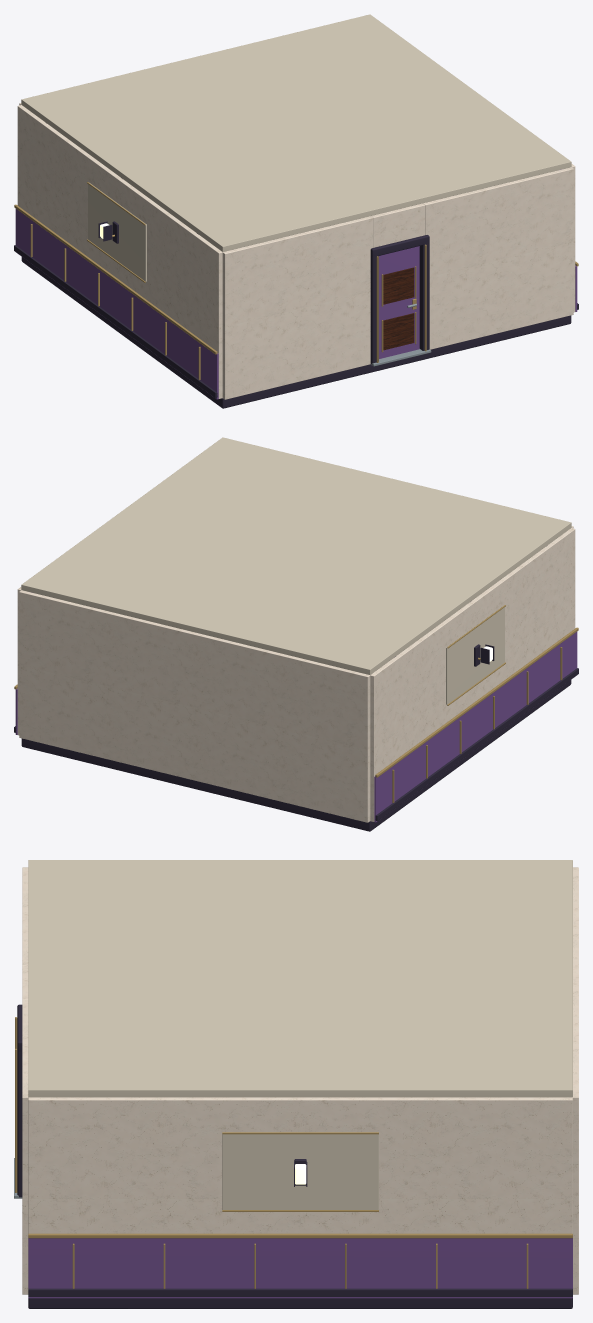
The model's file is laundry_room.glb.
The picture shows the model from 3 angles, top to bottom: view 1: azimuth 30°, elevation 25°; view 2: azimuth 150°, elevation 25°; view 3: azimuth 270°, elevation 25°; orthographic projection. The views are drawn at different scales.
Visible parts, largest first — view 1: ceiling_surface.011, front_wall.035, front_wall.033, left_wall.027, left_wainscot.019, floor.012, left_upper_inset.019, laundry_room_leaf, front_wall.034, left_skirt.019, laundry_room_jamb.001, left_rail.019 (+4 smaller); view 2: ceiling_surface.011, back_wall.021, left_wall.027, left_wainscot.019, floor.012, left_upper_inset.019, left_skirt.019, left_rail.019; view 3: ceiling_surface.011, right_wall.027, right_wainscot.019, right_upper_inset.019, floor.012, right_skirt.019, right_rail.019, back_wall.021, front_wall.033, laundry_room_jamb.001, front_wall.035.
Boxes of the visible parts, box(x1,y1,x2,y2) form: ceiling_surface.011: box(21, 14, 571, 251); front_wall.035: box(222, 216, 373, 399); front_wall.033: box(423, 167, 573, 349); left_wall.027: box(17, 105, 222, 398); left_wainscot.019: box(15, 208, 218, 399); floor.012: box(21, 257, 571, 408); left_upper_inset.019: box(88, 183, 146, 281); laundry_room_leaf: box(379, 246, 419, 358); front_wall.034: box(371, 203, 424, 247); left_skirt.019: box(14, 245, 217, 397); laundry_room_jamb.001: box(419, 240, 429, 350); left_rail.019: box(14, 204, 217, 354); ceiling_surface.011: box(21, 437, 571, 674); back_wall.021: box(19, 590, 370, 822); left_wall.027: box(370, 528, 575, 821); left_wainscot.019: box(374, 631, 577, 822); floor.012: box(21, 680, 571, 831); left_upper_inset.019: box(446, 606, 504, 704); left_skirt.019: box(375, 668, 578, 820); left_rail.019: box(375, 627, 578, 777); ceiling_surface.011: box(28, 860, 572, 1097); right_wall.027: box(28, 1097, 572, 1233); right_wainscot.019: box(28, 1238, 572, 1298); right_upper_inset.019: box(222, 1134, 378, 1209); floor.012: box(28, 1298, 572, 1308); right_skirt.019: box(28, 1288, 572, 1296); right_rail.019: box(28, 1233, 572, 1238); back_wall.021: box(572, 867, 578, 1294); front_wall.033: box(22, 999, 28, 1294); laundry_room_jamb.001: box(17, 1047, 22, 1197); front_wall.035: box(22, 867, 28, 965).
Size of the model in its own units: 8.96 by 3.56 by 8.3.
Materials: 10 (2 with a texture image).
